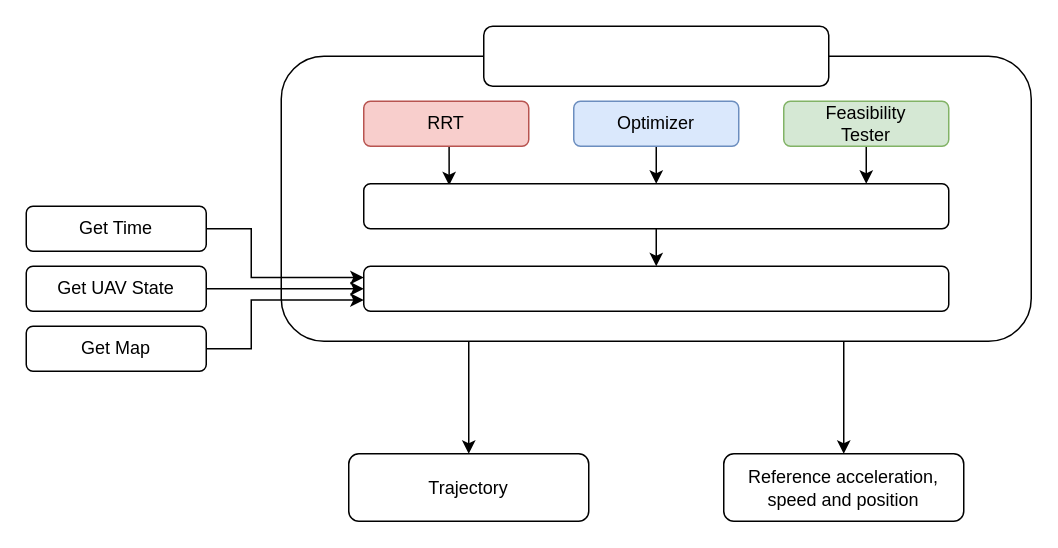
Image size: 1058x548. Some labels were removed from this diagram. Each missing label, with the box of its shape:
Dynamic Avoidance Problem: (362, 182, 949, 229)
Real time path planner: (362, 265, 949, 311)
Types and Operations: (482, 25, 829, 86)
